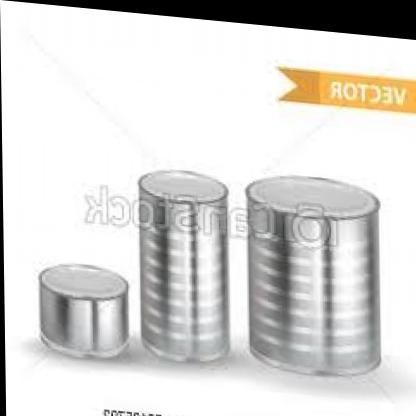trash: (246, 176, 380, 374), (139, 171, 228, 361), (39, 264, 127, 357)
